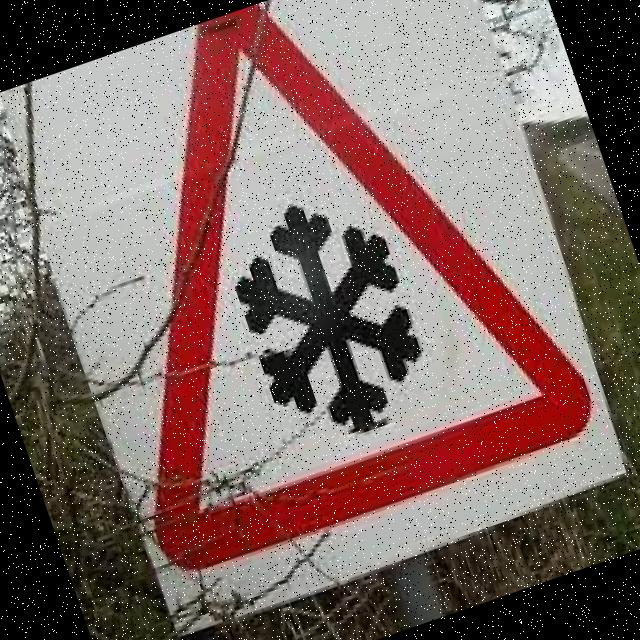snow_warning: (0, 0, 610, 593)
